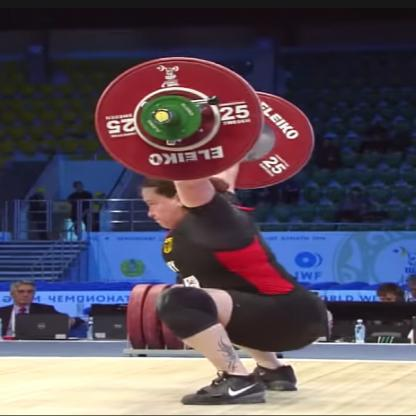Barbell: (93, 51, 274, 185)
